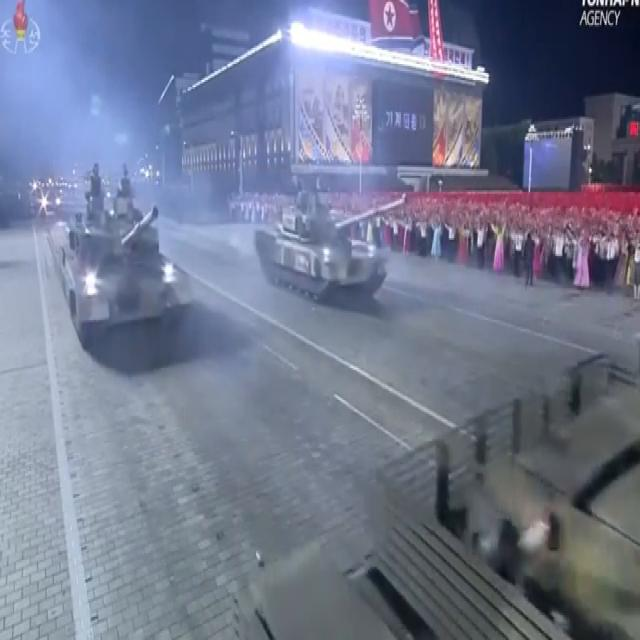north tank: (51, 146, 217, 383), (235, 181, 430, 318)
